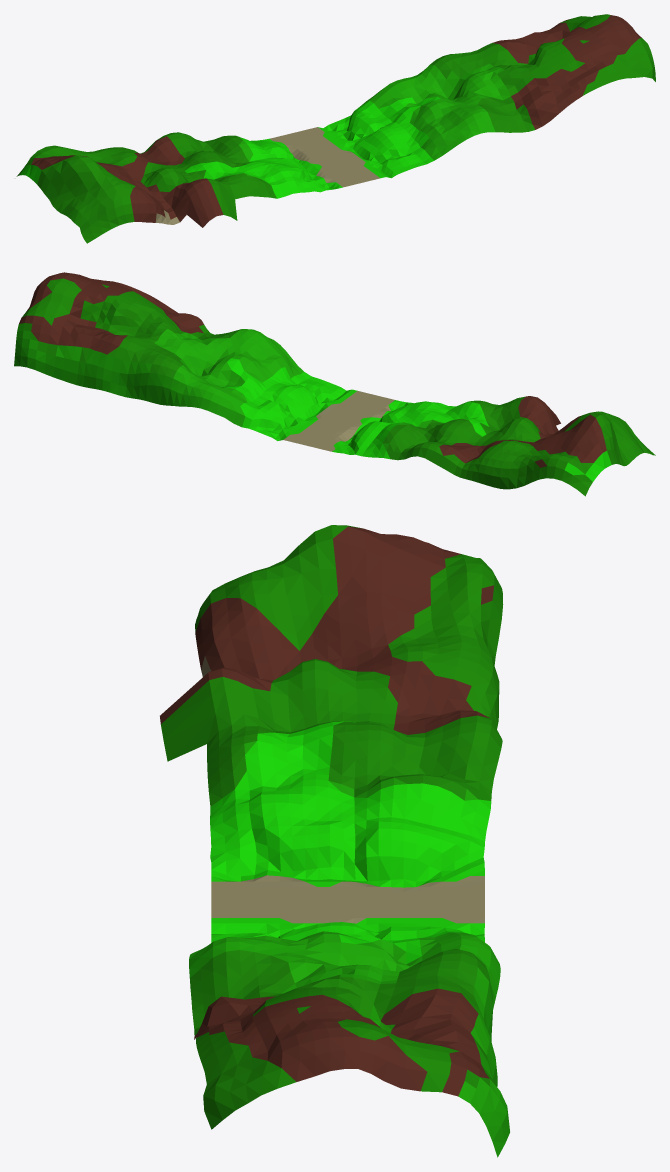
File: Terrain.fbx
The picture shows the model from 3 angles, top to bottom: view 1: azimuth 30°, elevation 25°; view 2: azimuth 150°, elevation 25°; view 3: azimuth 270°, elevation 25°; orthographic projection. The views are drawn at different scales.
Parts seen in each view (by area): view 1: Plane.001; view 2: Plane.001; view 3: Plane.001.
Boxes of the visible parts, <box> form: Plane.001: <box>16,14,655,243</box>; Plane.001: <box>14,272,655,496</box>; Plane.001: <box>160,525,509,1157</box>.
Size of the model in its own units: 9827 by 1237 by 2564.
